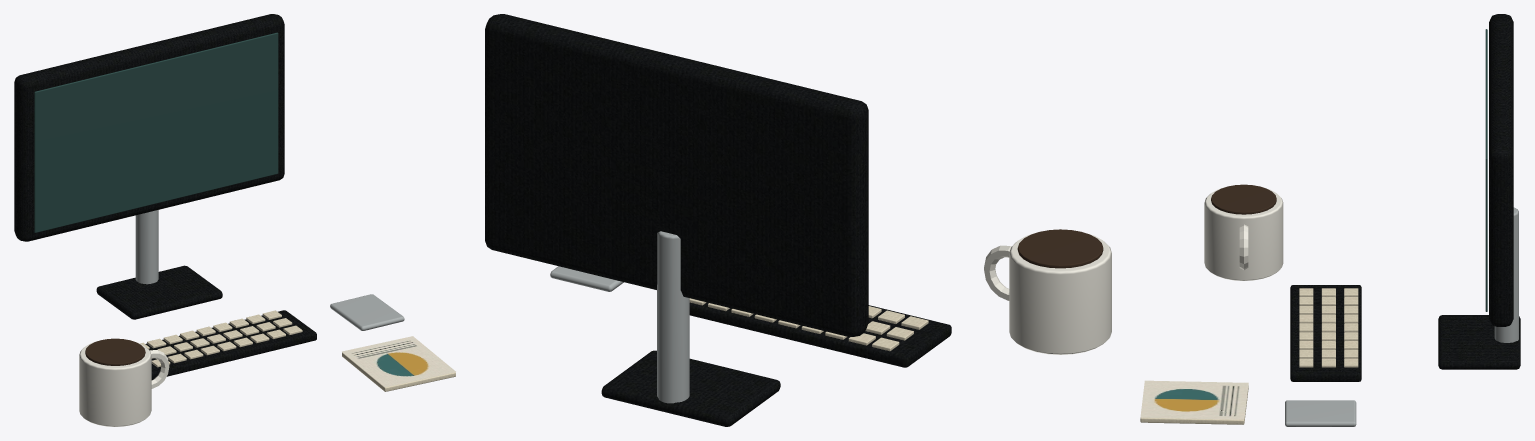
Rendered from workstation-dressed-v1.glb.
3 views of the same model, side by side, from view 1: azimuth 30°, elevation 25°; view 2: azimuth 150°, elevation 25°; view 3: azimuth 270°, elevation 25° (orthographic). The views are drawn at different scales.
Visible parts, largest first — view 1: Display bezel; view 2: Display bezel; view 3: Display bezel.
Part boxes in pixels (bbox=[...]): Display bezel: bbox=[14, 14, 455, 426]; Display bezel: bbox=[485, 14, 1111, 426]; Display bezel: bbox=[1140, 14, 1520, 426].
Size of the model in its own units: 0.782 by 0.537 by 0.6939.
7 materials, 3 textured.
